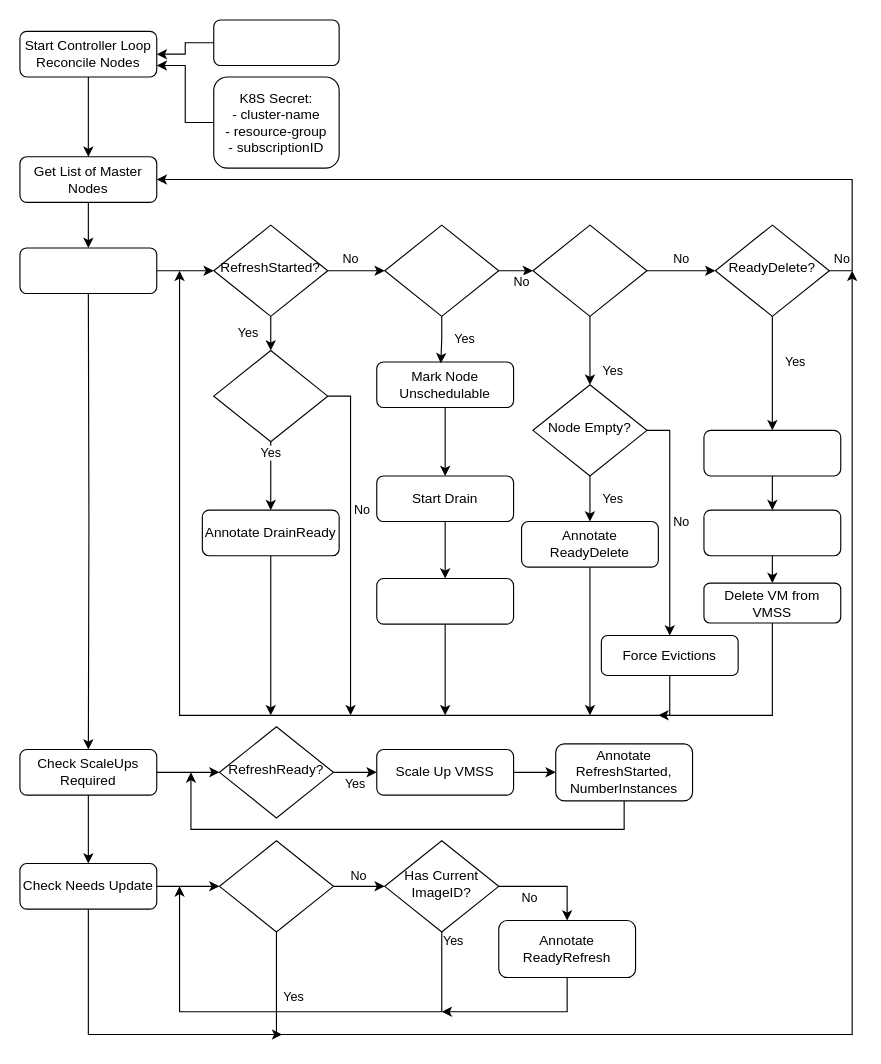
This 881x1064 diagram has some shape labels left out. The box of each missing label's shape, as (x1, y1, x2, y2) in pixels:
Annotate DrainStarted: (376, 577, 514, 624)
At Concurrency Max?: (218, 840, 333, 932)
Azure Creds Managed Identity: (213, 19, 339, 66)
Check In-Progress: (19, 247, 157, 294)
Delete Node From Cluster: (703, 509, 841, 556)
DrainStarted?: (532, 224, 647, 316)
ReadyDrain: (384, 224, 499, 316)
Remove From Etcd: (703, 429, 841, 476)
Replacement Ready?: (213, 349, 328, 442)
